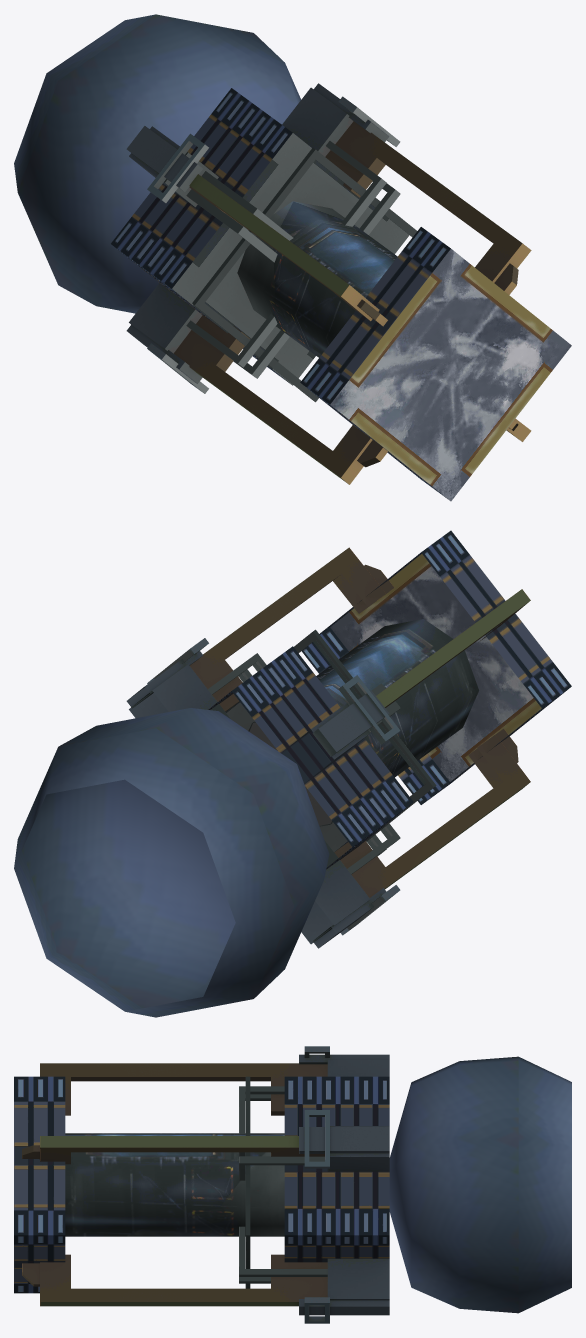
Rendered from trap_107_smpow.glb.
3 renders of one model, top to bottom at view 1: azimuth 30°, elevation 25°; view 2: azimuth 150°, elevation 25°; view 3: azimuth 270°, elevation 25°, orthographic. The views are drawn at different scales.
Visible parts, largest first — view 1: trap_107_smpow; view 2: trap_107_smpow; view 3: trap_107_smpow.
Boxes of the visible parts, <box> form: trap_107_smpow: <box>14,14,571,501</box>; trap_107_smpow: <box>14,530,571,1017</box>; trap_107_smpow: <box>14,1046,571,1323</box>.
Bounding box in the file's own units: 0.8802 × 0.8802 × 1.8.
Materials: 1 (1 with a texture image).
